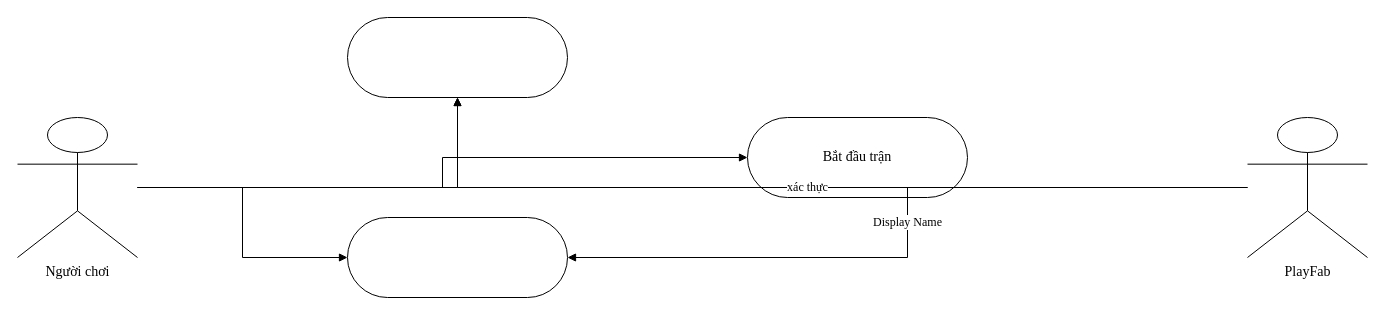
The diagram is 1385 pixels wide and 315 high, and some of its shapes have lost their labels. The shapes that lost their labels are listed below. From the top down, each one's centre as x and y in pixels, then its label:
(x=457, y=57): Đăng nhập Custom ID
(x=457, y=257): Nhập tên hiển thị
